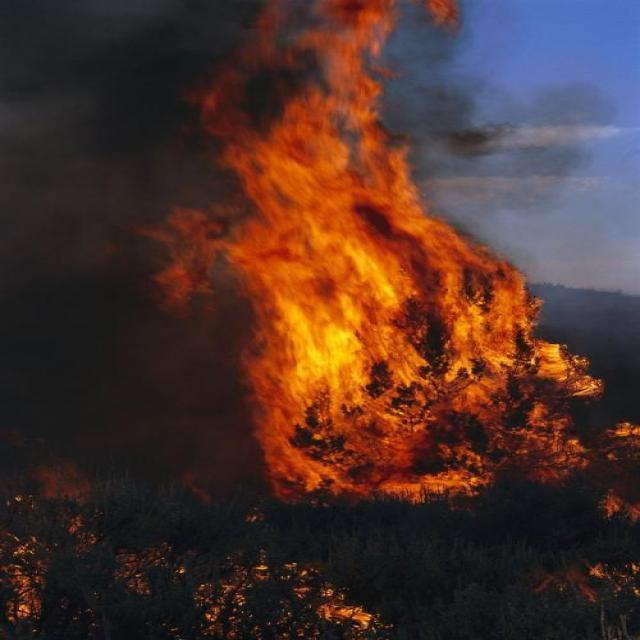Fire: (130, 1, 640, 526), (1, 532, 392, 640), (587, 561, 640, 598)
Smoke: (1, 1, 316, 492), (375, 1, 613, 212)
